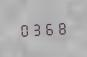eight: (54, 19, 65, 35)
six: (42, 20, 53, 36)
three: (30, 20, 41, 37)
zero: (18, 21, 29, 37)
